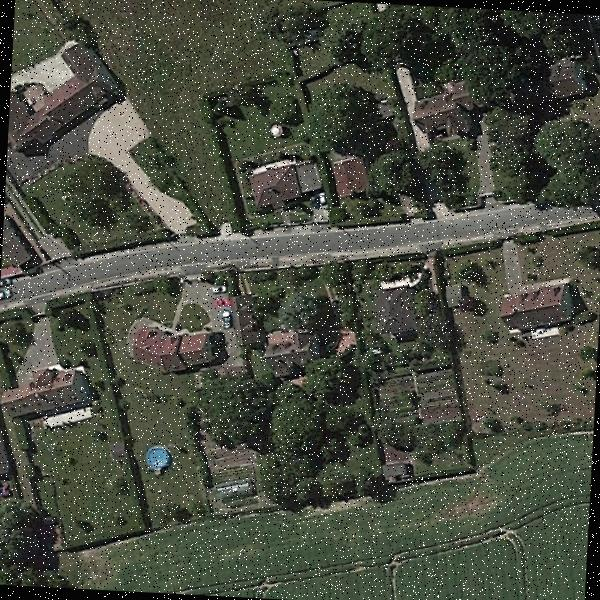Buildings: (10, 51, 108, 150), (7, 363, 86, 424), (129, 326, 215, 376), (420, 82, 486, 134), (251, 156, 314, 210), (502, 289, 570, 332), (371, 282, 416, 334), (268, 334, 308, 378), (232, 300, 260, 341), (550, 66, 587, 96), (334, 167, 363, 192)
